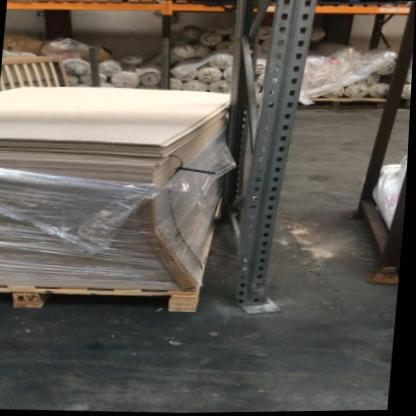vertical_damage: (231, 244, 294, 321)
